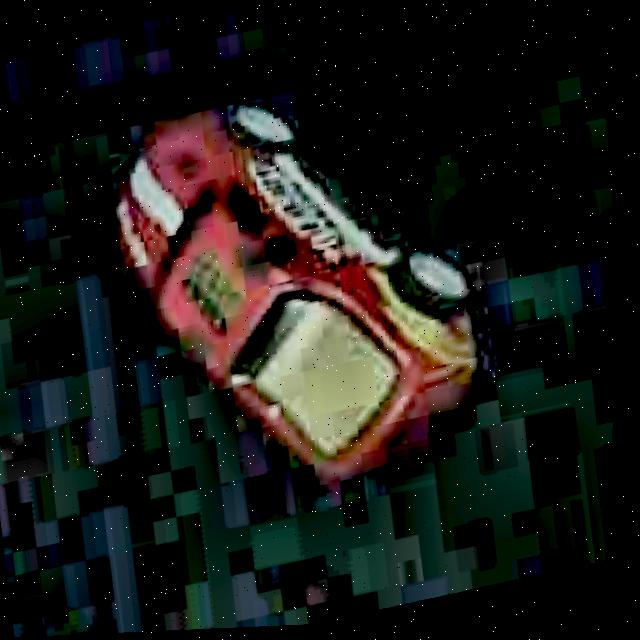car: (73, 47, 522, 534)
